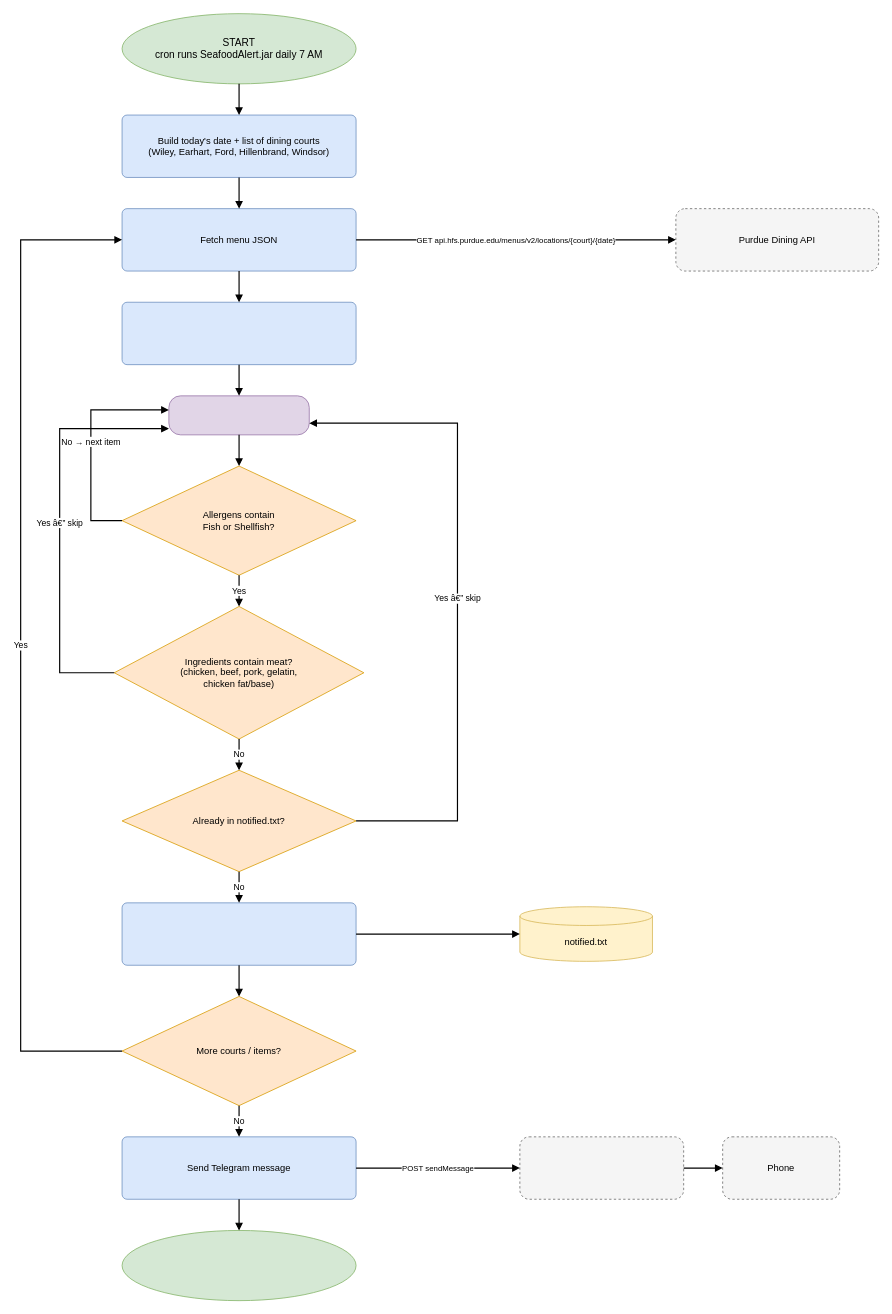
The diagram is 892 pixels wide and 1314 high, and some of its shapes have lost their labels. Each missing label, with the centre of its shape:
"Add to alert list + save to notified.txt" belongs at (238,933).
"END" belongs at (238,1265).
"next item" belongs at (238,415).
"Parse JSON into items (meal → station → item)" belongs at (238,333).
"Telegram Bot API" belongs at (601,1167).
